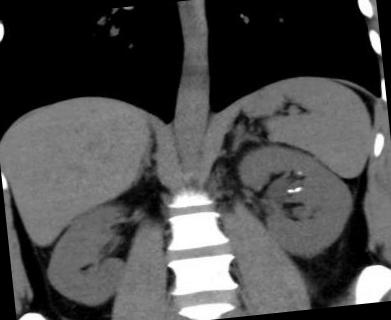Tas_Var: (293, 184, 302, 194), (284, 186, 293, 195), (296, 170, 302, 176)
